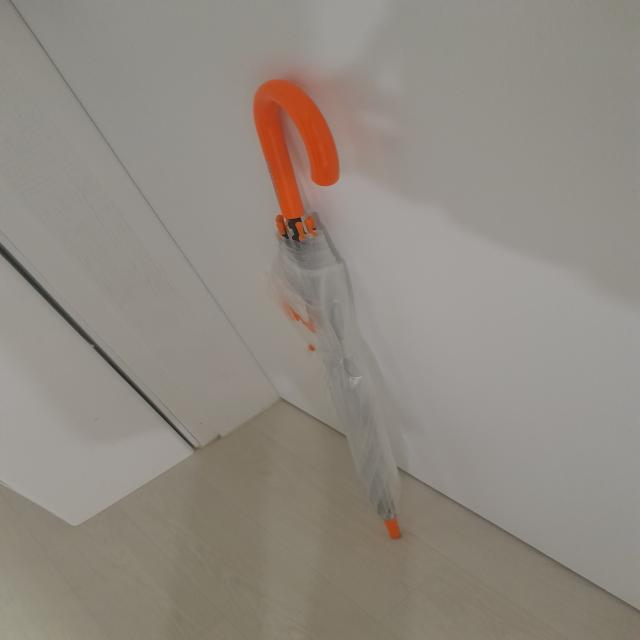umbrella: (248, 80, 402, 543)
